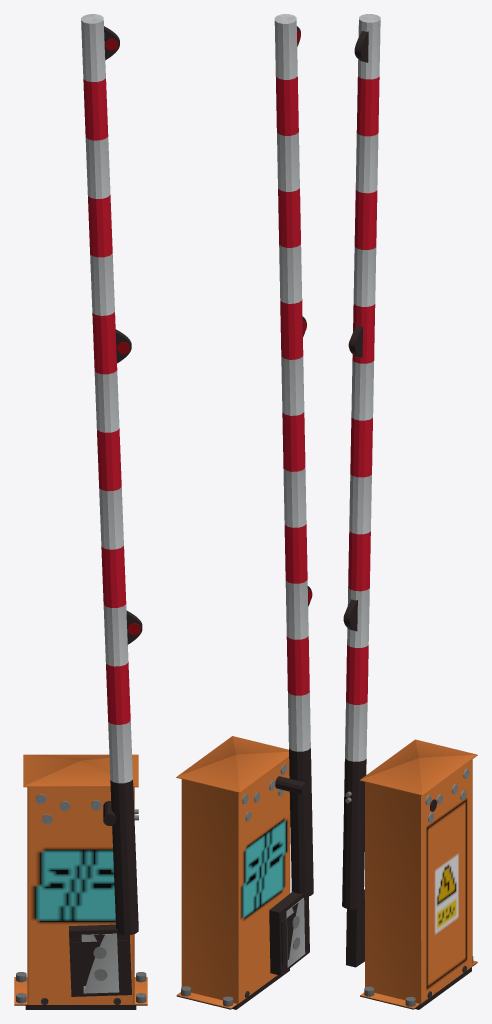
Rendered from rhr-95_3m_lewo.obj.
3 renders of one model, left to right at view 1: azimuth 90°, elevation 25°; view 2: azimuth 150°, elevation 25°; view 3: azimuth 330°, elevation 25°, orthographic. The views are drawn at different scales.
Parts seen in each view (by area): view 1: drag, cuboid; view 2: cuboid, drag; view 3: cuboid, drag.
Part boxes in pixels (<box>): drag: <box>69,14,142,996</box>; cuboid: <box>14,754,147,1009</box>; cuboid: <box>176,736,290,1009</box>; drag: <box>269,14,313,975</box>; cuboid: <box>359,739,477,1009</box>; drag: <box>342,14,436,967</box>.
Bounding box in the file's own units: 0.3991 × 4.28 × 0.5156.
